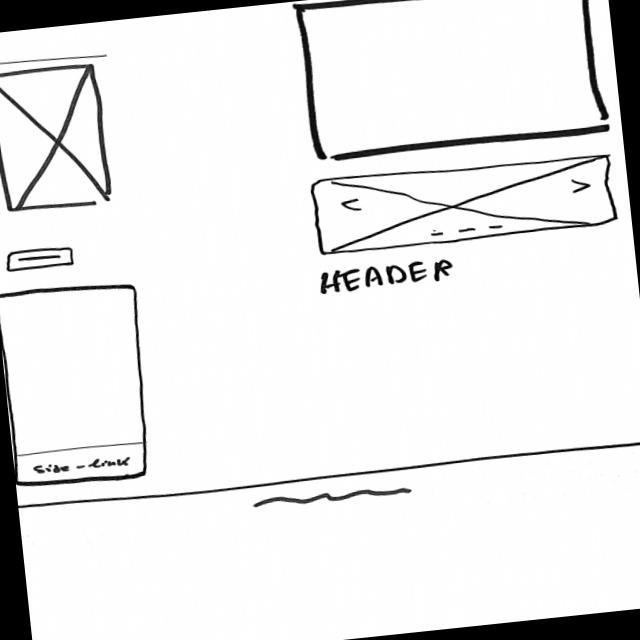container: (286, 0, 610, 164), (0, 276, 154, 495)
icon-button: (2, 242, 74, 274)
image: (308, 147, 620, 255), (0, 60, 116, 215)
label: (313, 253, 457, 300), (29, 452, 135, 476)
text: (250, 481, 414, 513)
